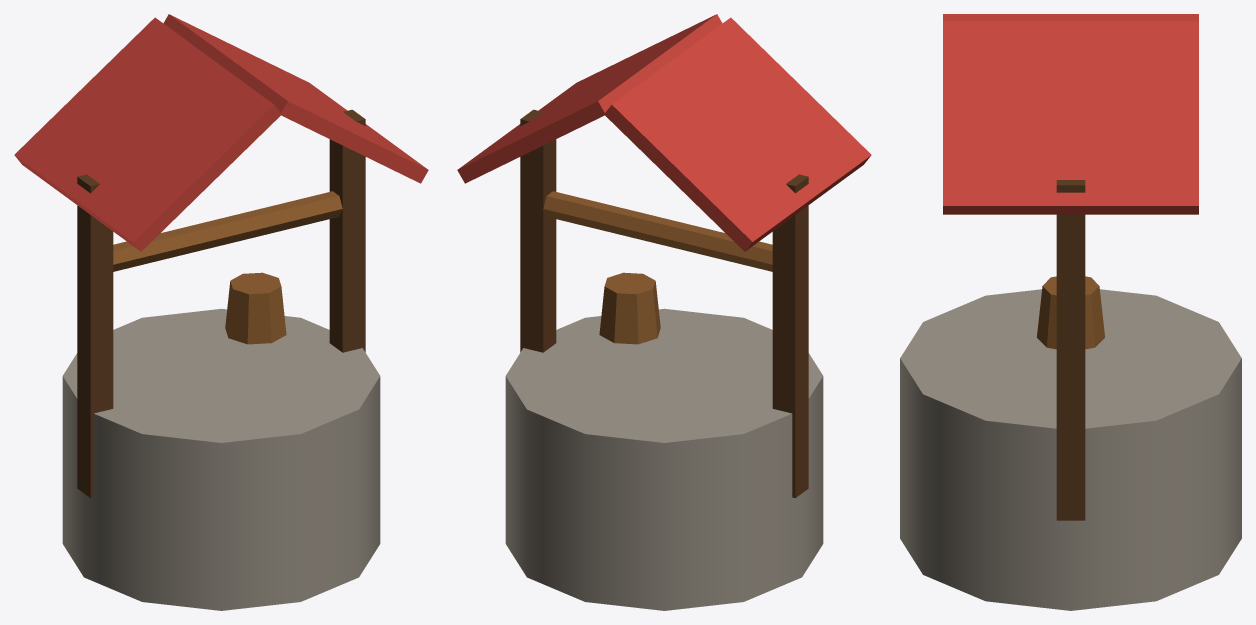
The model's file is PR_Nature_Kuyu.fbx.
3 renders of one model, left to right at view 1: azimuth 30°, elevation 25°; view 2: azimuth 150°, elevation 25°; view 3: azimuth 270°, elevation 25°, orthographic. The views are drawn at different scales.
Visible parts, largest first — view 1: PR_Nature_Kuyu; view 2: PR_Nature_Kuyu; view 3: PR_Nature_Kuyu.
Part boxes in pixels (x1,y1,x2,y2): PR_Nature_Kuyu: (14, 14, 428, 610); PR_Nature_Kuyu: (457, 14, 871, 610); PR_Nature_Kuyu: (900, 14, 1241, 610).
Size of the model in its own units: 1.29 by 2.02 by 1.2.
